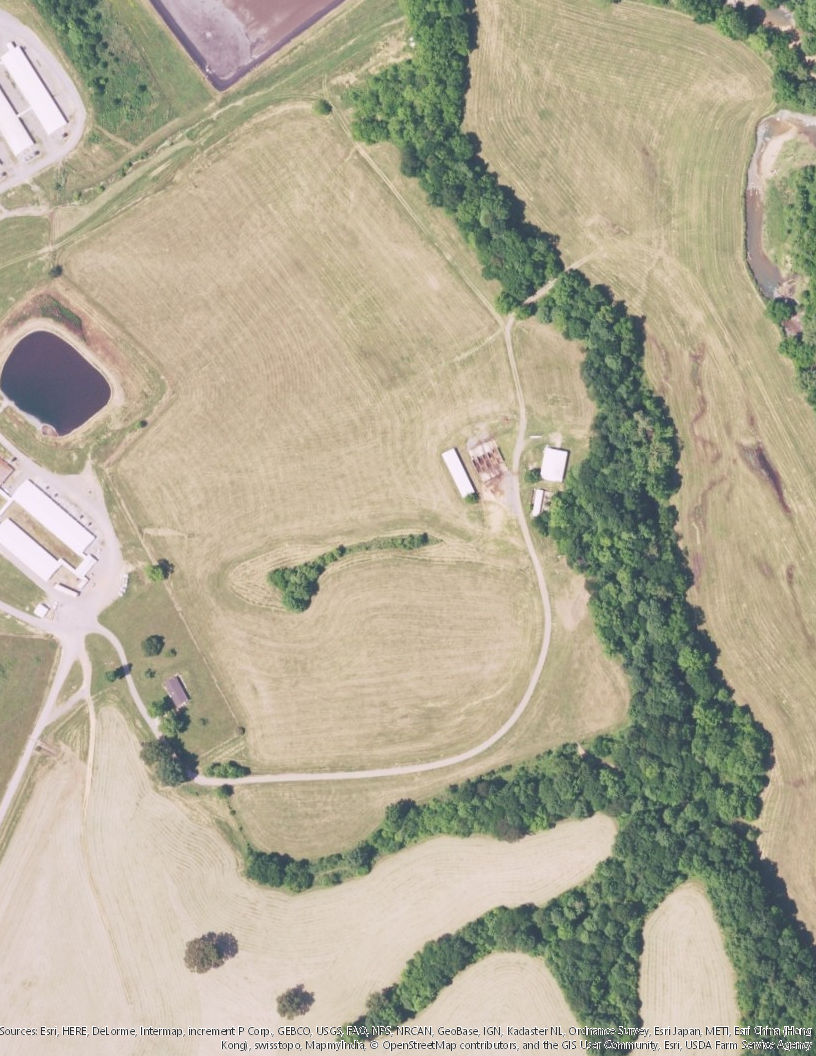cafo: (12, 480, 99, 557), (1, 518, 64, 585), (439, 446, 476, 498), (537, 444, 569, 485)
